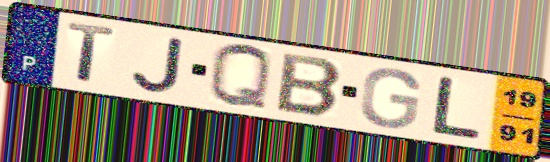B: (272, 50, 346, 119)
G: (357, 65, 423, 130)
J: (130, 35, 187, 95)
L: (428, 74, 484, 142)
Q: (206, 41, 275, 113)
T: (66, 19, 118, 87)
